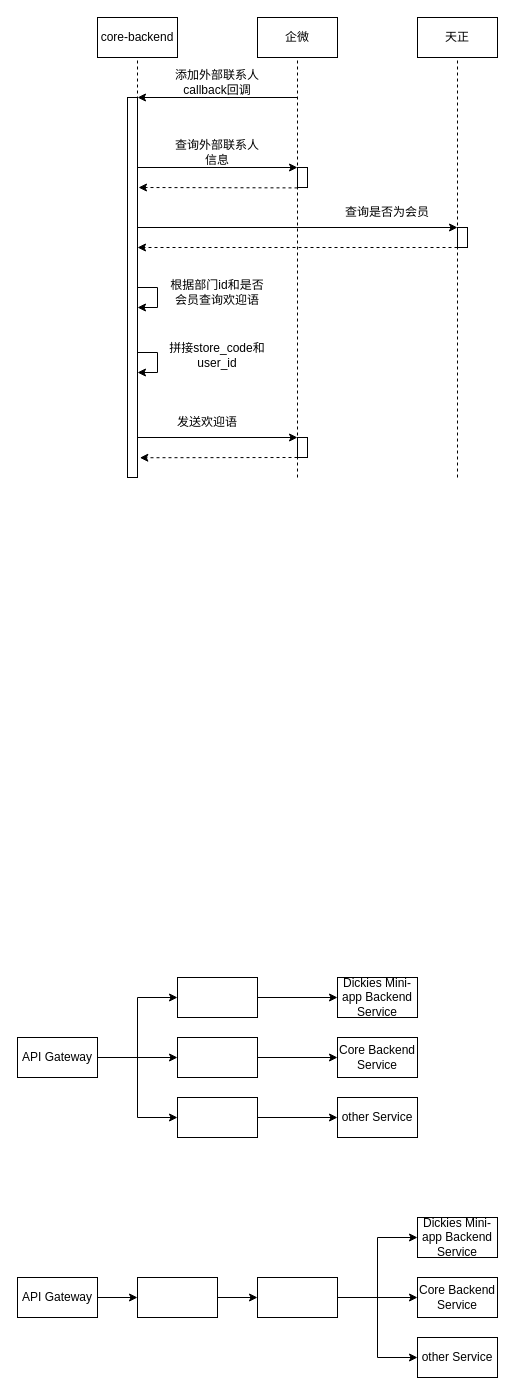
Image size: 515x1395. Some labels were removed from this diagram. Each missing label, with the centre of its shape:
Ingress Controller: the point at 297,1297
SLB: the point at 177,1297
SLB1: the point at 217,997
SLB2: the point at 217,1057
SLB3: the point at 217,1117
